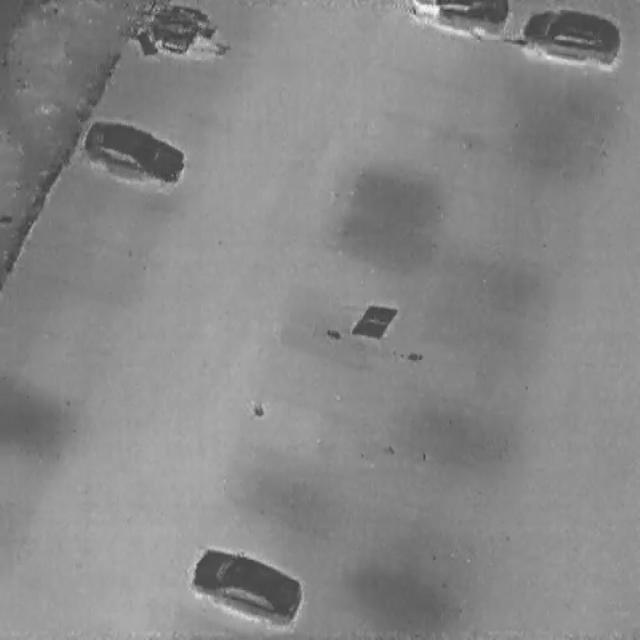Car: (185, 536, 307, 632), (77, 109, 191, 195), (517, 0, 625, 66), (405, 0, 512, 41)
DontCare: (128, 0, 219, 62)
